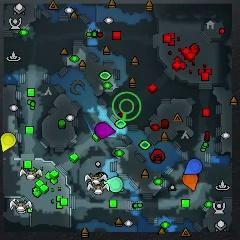p1: (185, 158, 203, 176)
p2: (104, 176, 123, 192)
p3: (95, 121, 115, 139)
p4: (1, 132, 16, 152)
p5: (182, 172, 199, 192)
